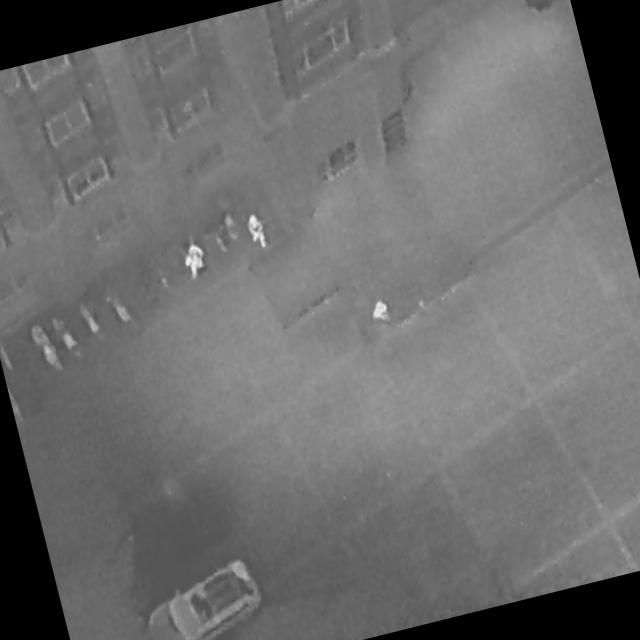person: (182, 243, 210, 283), (245, 211, 269, 249), (369, 296, 393, 327)
